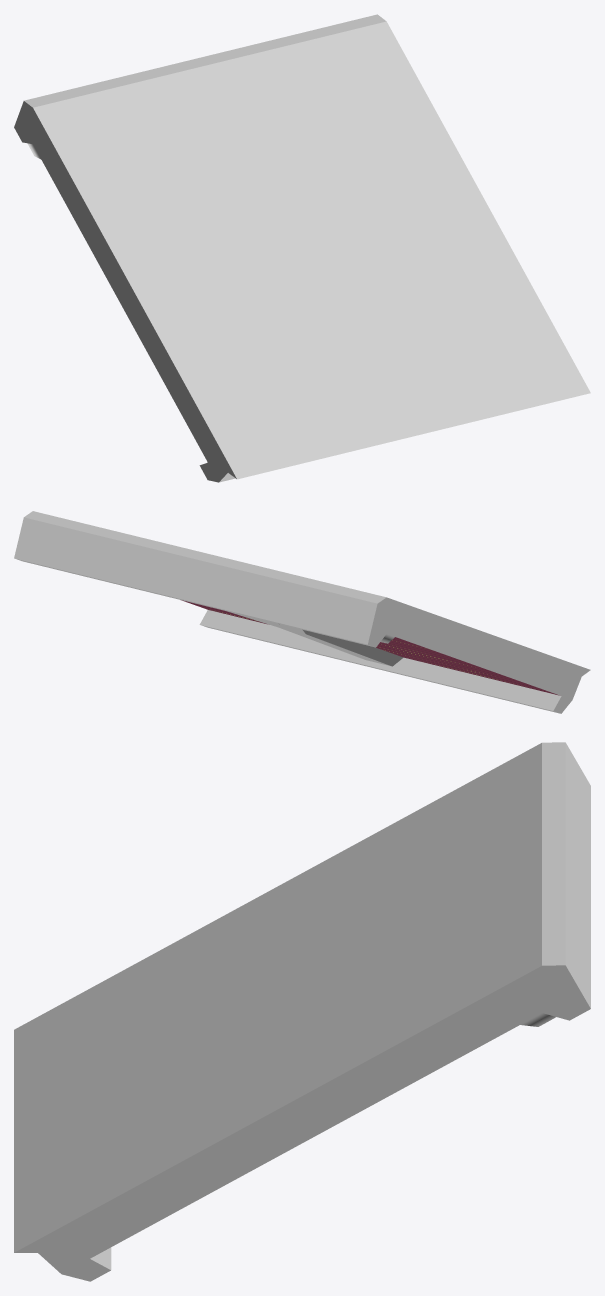
The model's file is SM_Bld_Roof_M_Straight_01.fbx.
3 renders of one model, top to bottom at view 1: azimuth 30°, elevation 25°; view 2: azimuth 150°, elevation 25°; view 3: azimuth 270°, elevation 25°, orthographic. The views are drawn at different scales.
Visible parts, largest first — view 1: SM_Bld_Roof_M_Straight_01; view 2: SM_Bld_Roof_M_Straight_01; view 3: SM_Bld_Roof_M_Straight_01.
Boxes of the visible parts, left/top/right/bottom form: SM_Bld_Roof_M_Straight_01: left=14, top=14, right=590, bottom=482; SM_Bld_Roof_M_Straight_01: left=14, top=511, right=590, bottom=713; SM_Bld_Roof_M_Straight_01: left=14, top=742, right=590, bottom=1281.
Bounding box in the file's own units: 250 × 165 × 273.
